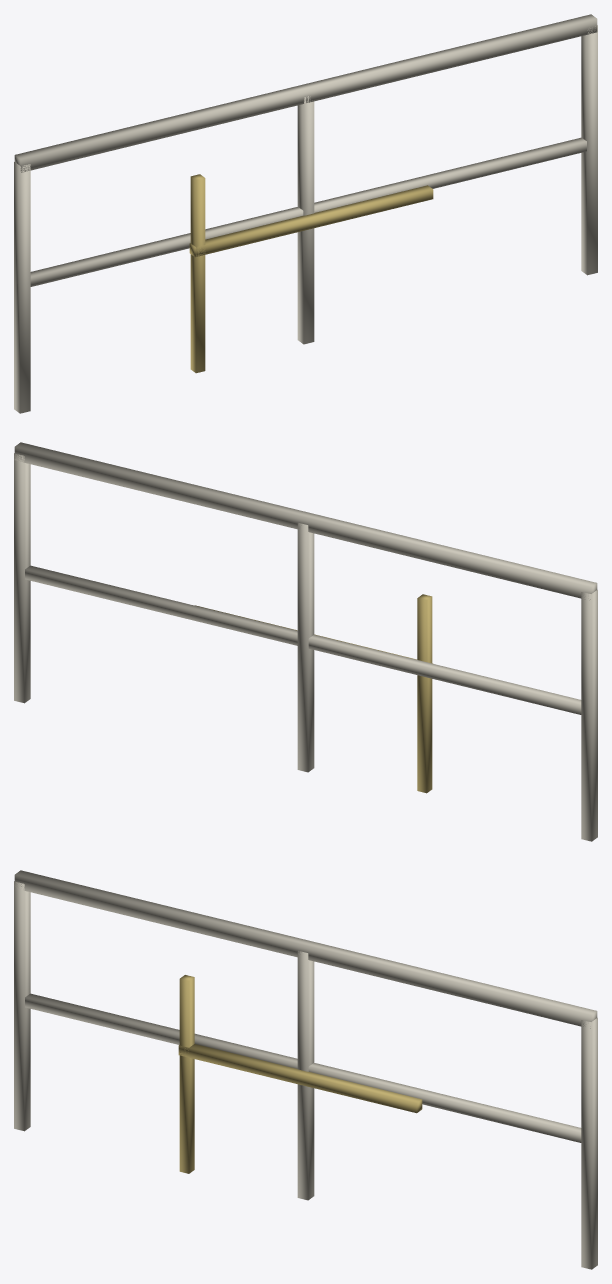
The model's file is civic_gate_l240_h100.glb.
The picture shows the model from 3 angles, top to bottom: view 1: azimuth 30°, elevation 25°; view 2: azimuth 150°, elevation 25°; view 3: azimuth 330°, elevation 25°; orthographic projection.
Visible parts, largest first — view 1: world; view 2: world; view 3: world.
Part boxes in pixels (left/top/right/bottom): world: left=14, top=14, right=597, bottom=413; world: left=14, top=442, right=597, bottom=841; world: left=14, top=870, right=597, bottom=1269.
Bounding box in the file's own units: 2.44 × 1.03 × 0.0825.
